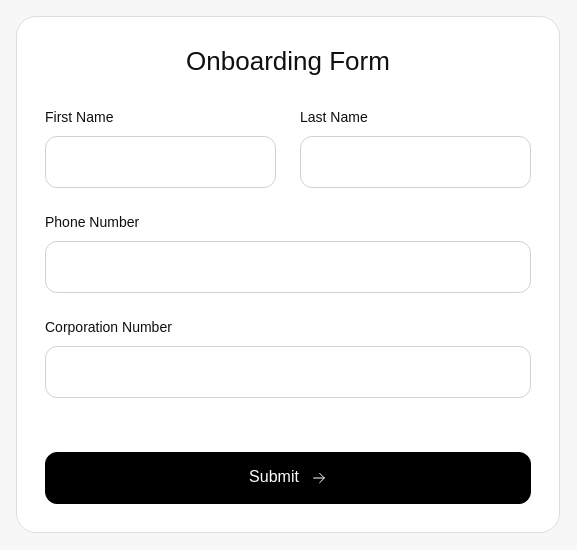
Test: shows the required error for Phone Number on blur
Click the field labelled "Phone Number": [288, 267] box left=45, top=241, right=531, bottom=293
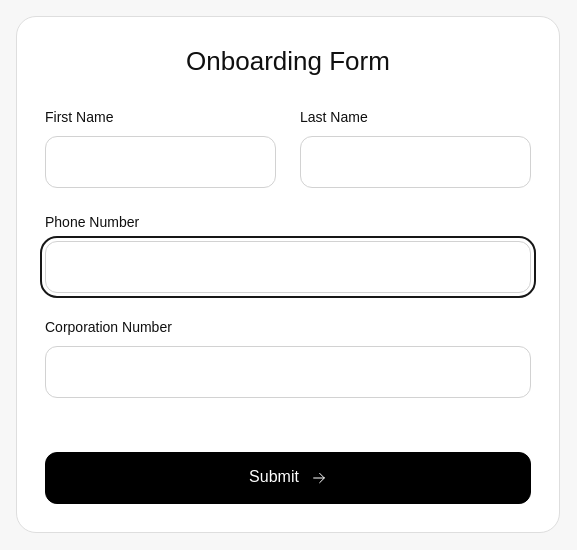
Expected: the text "Phone number is required" is not shown
Press Tab
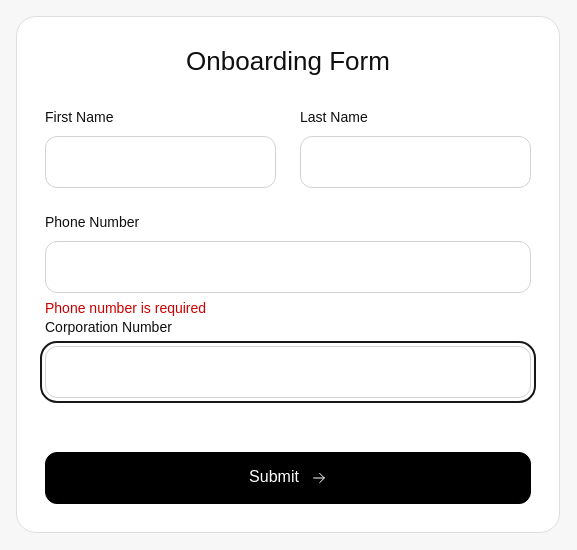
Result: the text "Phone number is required" is shown at left=45, top=300, right=206, bottom=316
